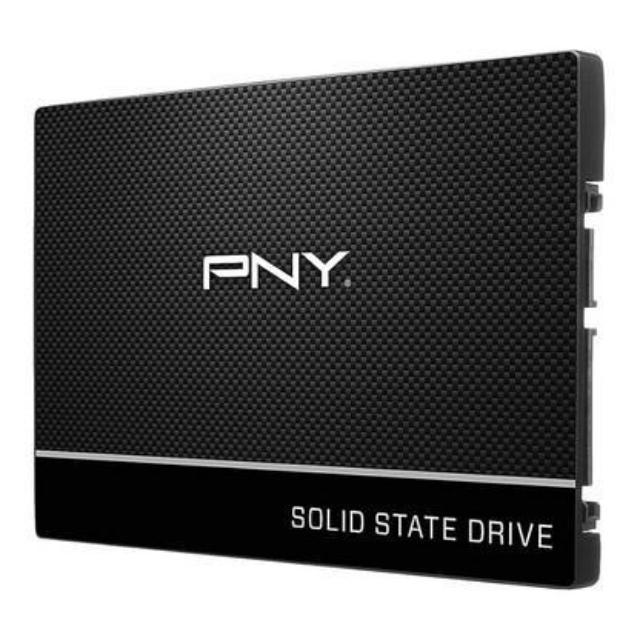DISK: (38, 64, 608, 602)
